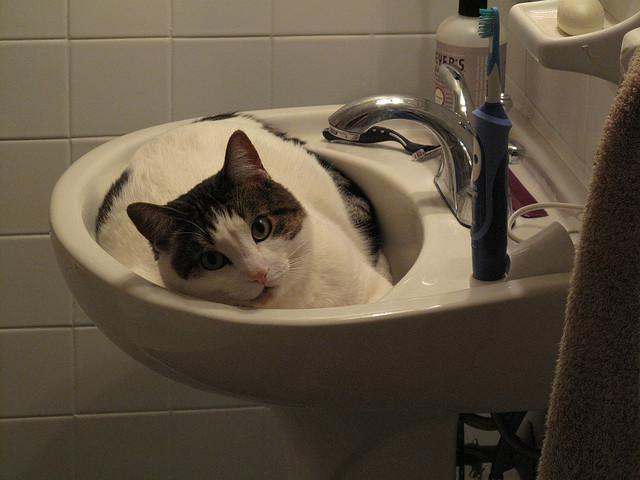Lavamanos: (48, 87, 618, 424)
Otro Obstaculo: (98, 96, 395, 325)
